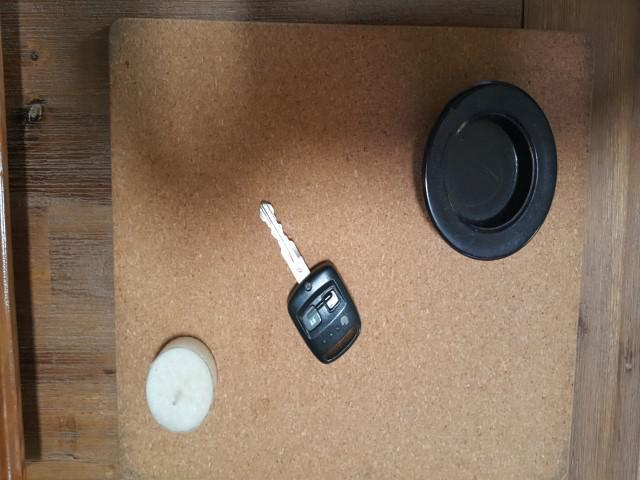key: (259, 203, 363, 363)
